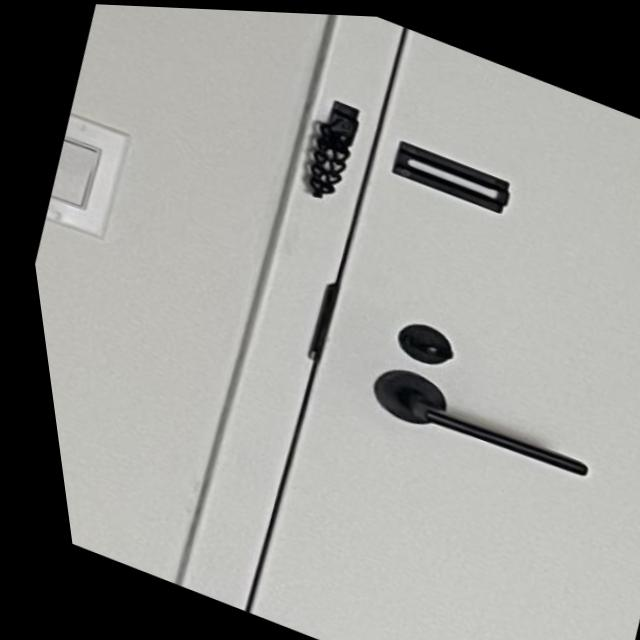door_handle: (338, 346, 602, 497)
